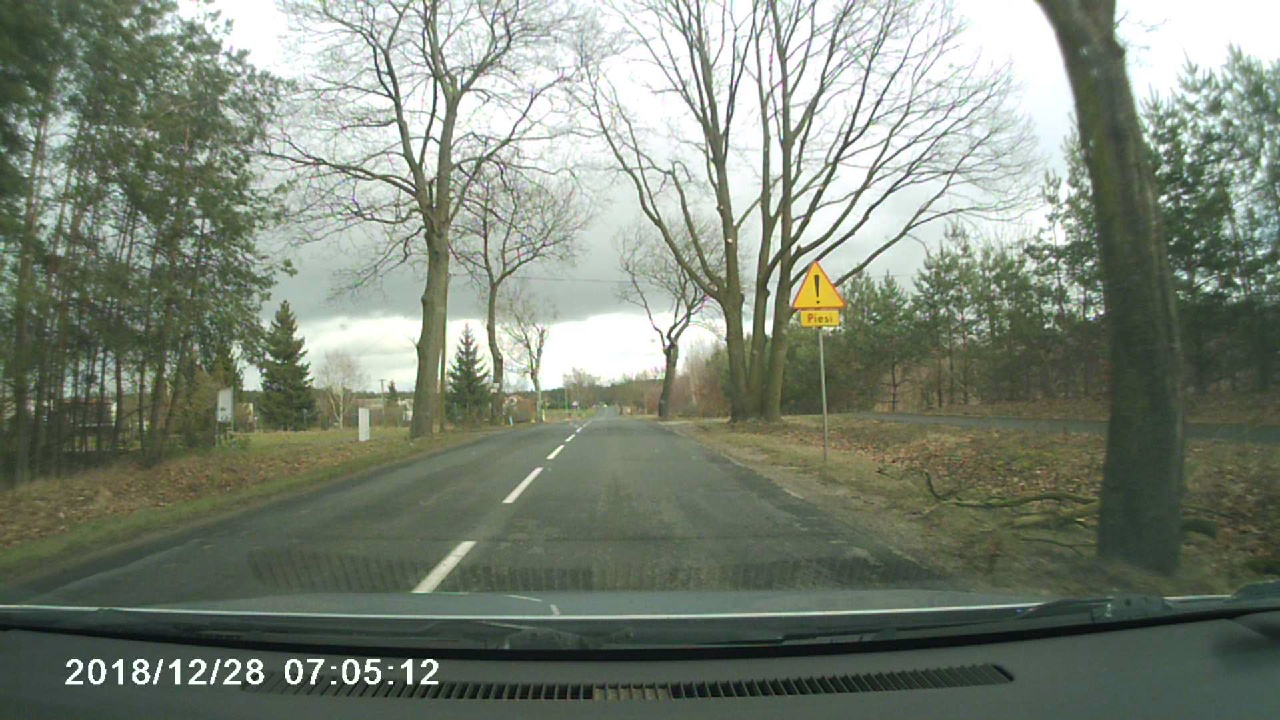A30: (784, 257, 849, 310)
